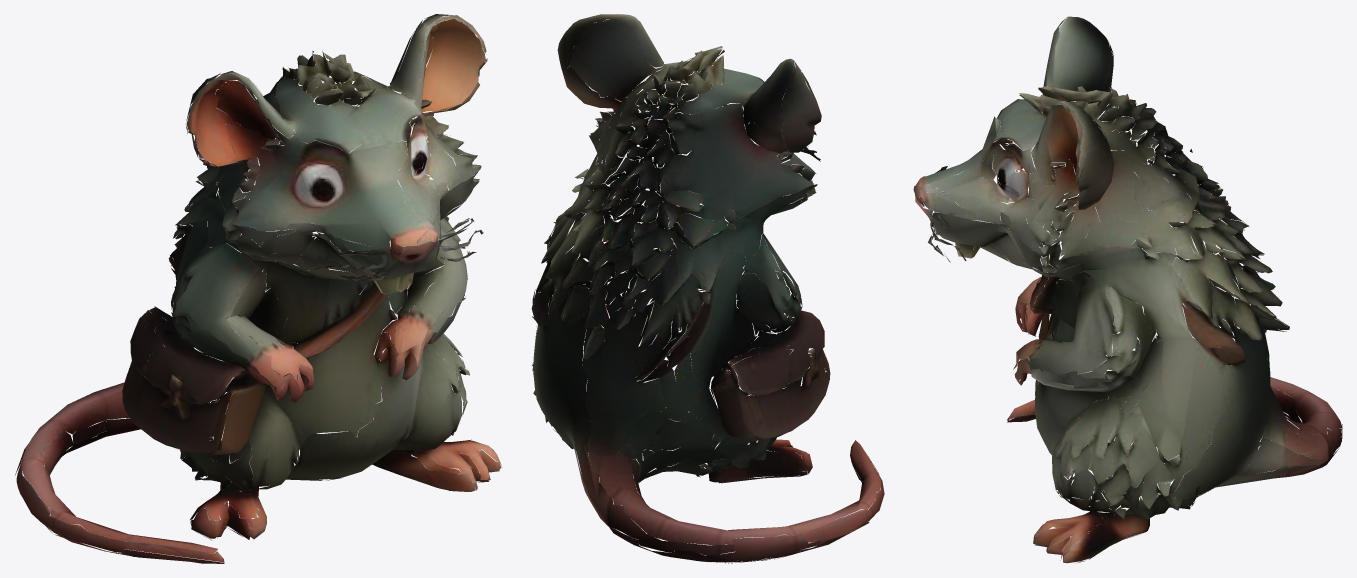
File: giant_rat.glb
3 views of the same model, side by side, from view 1: azimuth 30°, elevation 25°; view 2: azimuth 150°, elevation 25°; view 3: azimuth 270°, elevation 25° (orthographic). The views are drawn at different scales.
Parts seen in each view (by area): view 1: geometry_0; view 2: geometry_0; view 3: geometry_0.
Part boxes in pixels (left/top/right/bottom): geometry_0: left=15, top=14, right=502, bottom=563; geometry_0: left=531, top=14, right=884, bottom=563; geometry_0: left=913, top=16, right=1342, bottom=563.
Bounding box in the file's own units: 0.9032 × 1 × 0.898.
Materials: 1 (1 with a texture image).
